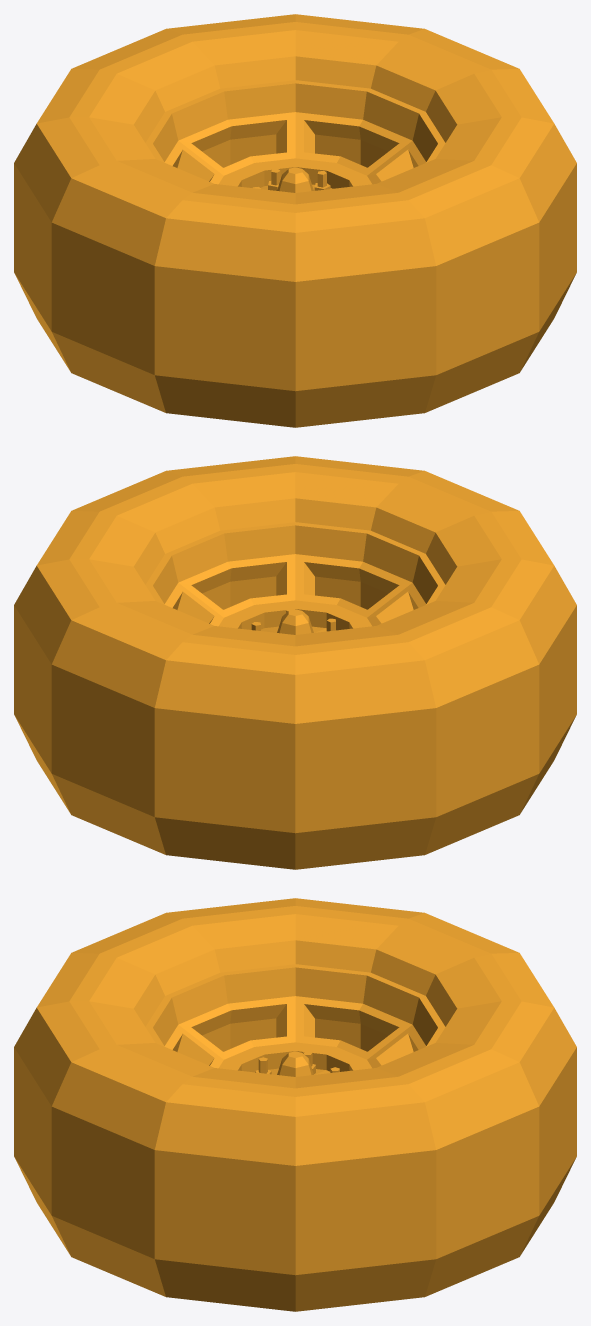
File: SM_Wheel_Single_Racing_NASCAR.fbx
The picture shows the model from 3 angles, top to bottom: view 1: azimuth 30°, elevation 25°; view 2: azimuth 150°, elevation 25°; view 3: azimuth 270°, elevation 25°; orthographic projection.
Parts seen in each view (by area): view 1: SM_Wheel_Single_Racing_NASCAR; view 2: SM_Wheel_Single_Racing_NASCAR; view 3: SM_Wheel_Single_Racing_NASCAR.
Part boxes in pixels (x1,y1,x2,y2): SM_Wheel_Single_Racing_NASCAR: (14, 14, 576, 427); SM_Wheel_Single_Racing_NASCAR: (14, 456, 576, 869); SM_Wheel_Single_Racing_NASCAR: (14, 898, 576, 1311).
Size of the model in its own units: 0.8447 by 0.3331 by 0.8447.
